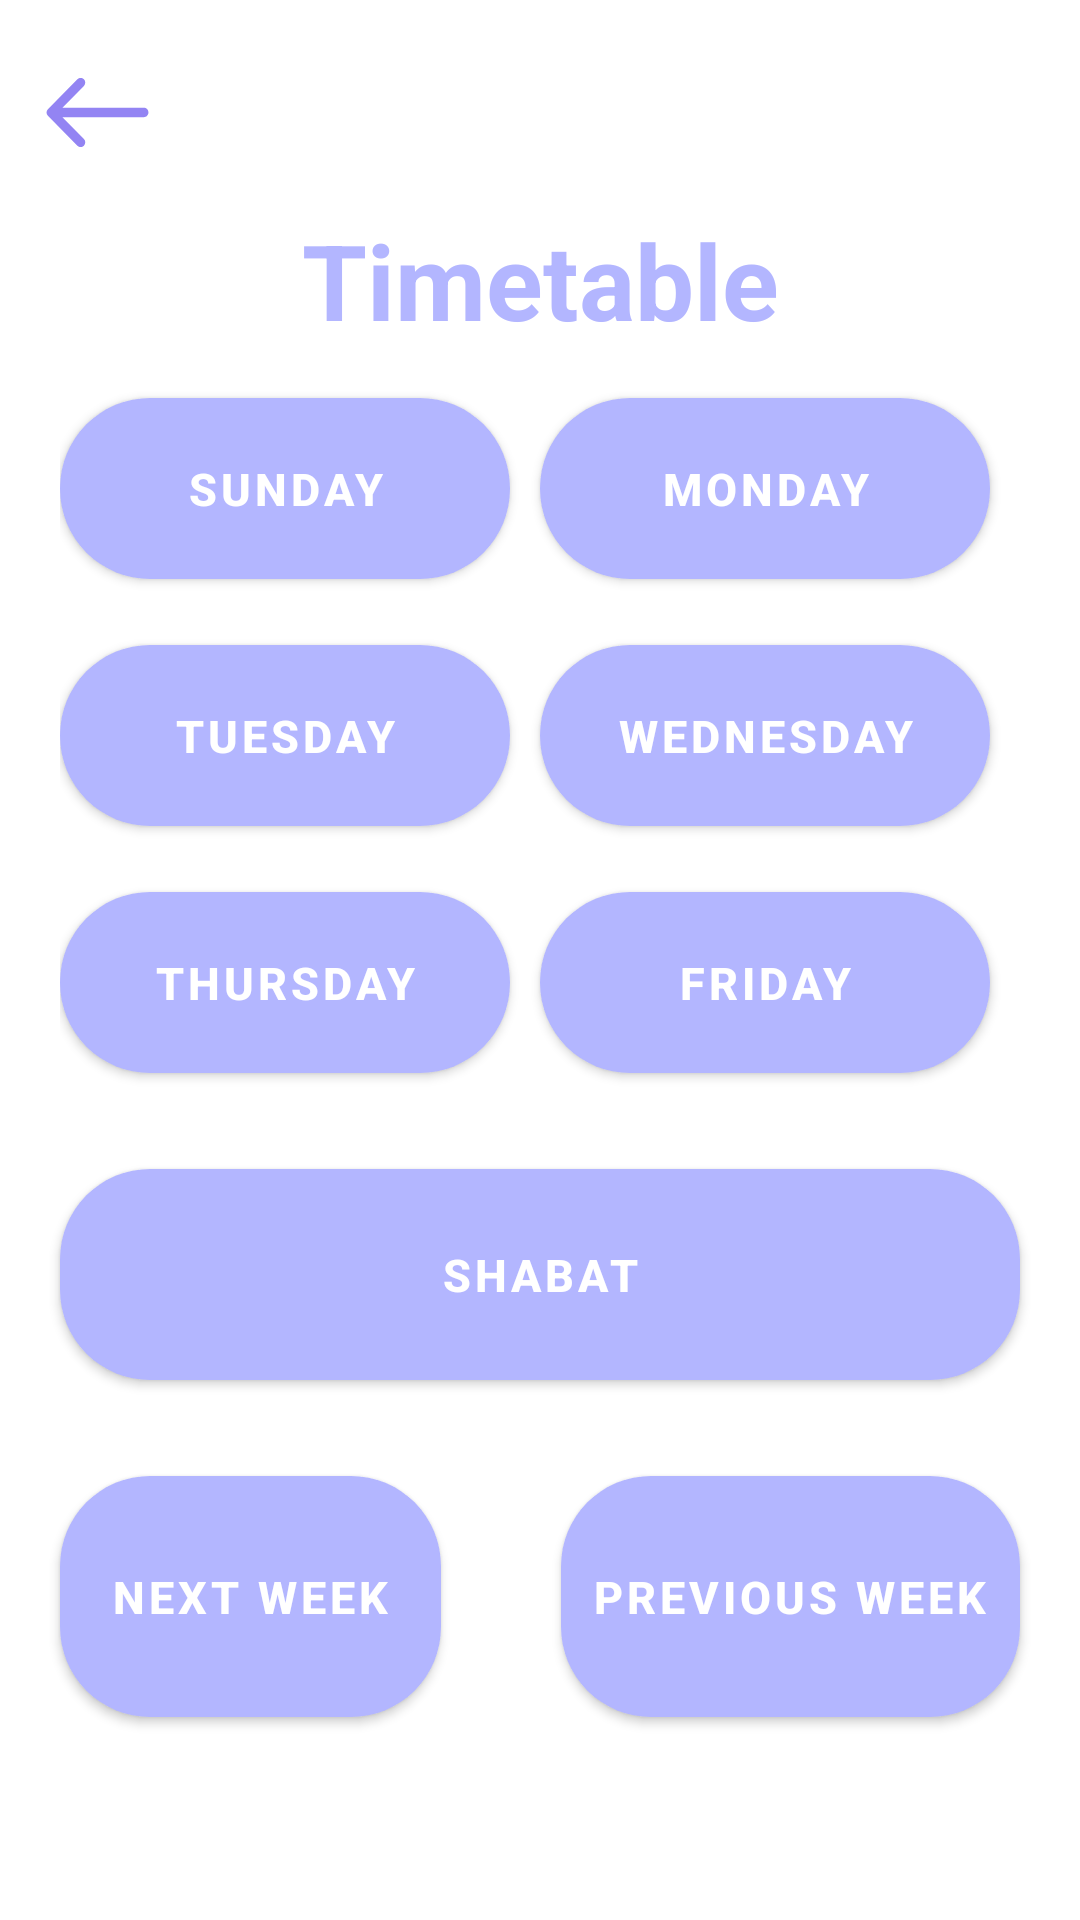

Icons on this 1080×1920 Android screen, each with its box as (x1, y1, x2, y2):
back arrow: (46, 78, 149, 147)
